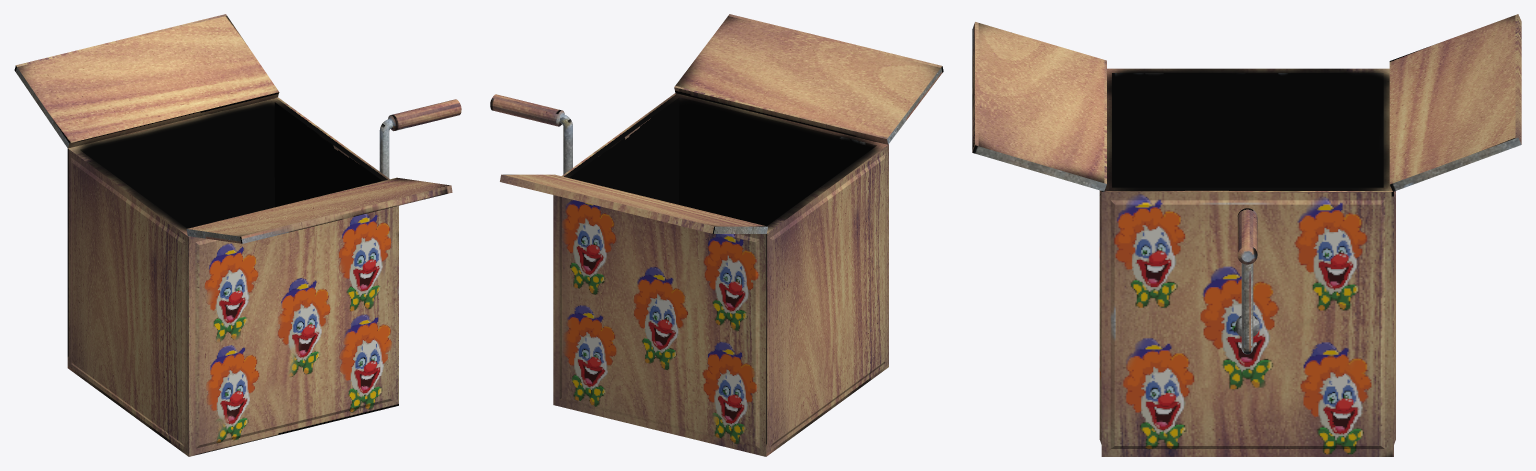
File: musicbox2.glb
The picture shows the model from 3 angles, left to right: view 1: azimuth 30°, elevation 25°; view 2: azimuth 150°, elevation 25°; view 3: azimuth 270°, elevation 25°; orthographic projection. The views are drawn at different scales.
Visible parts, largest first — view 1: Box; view 2: Box; view 3: Box.
Part boxes in pixels (x1,y1,x2,y2): Box: (14,14,461,456); Box: (490,14,943,456); Box: (972,14,1521,456).
Bounding box in the file's own units: 3.16 × 2.41 × 3.76.
1 material, 1 textured.
